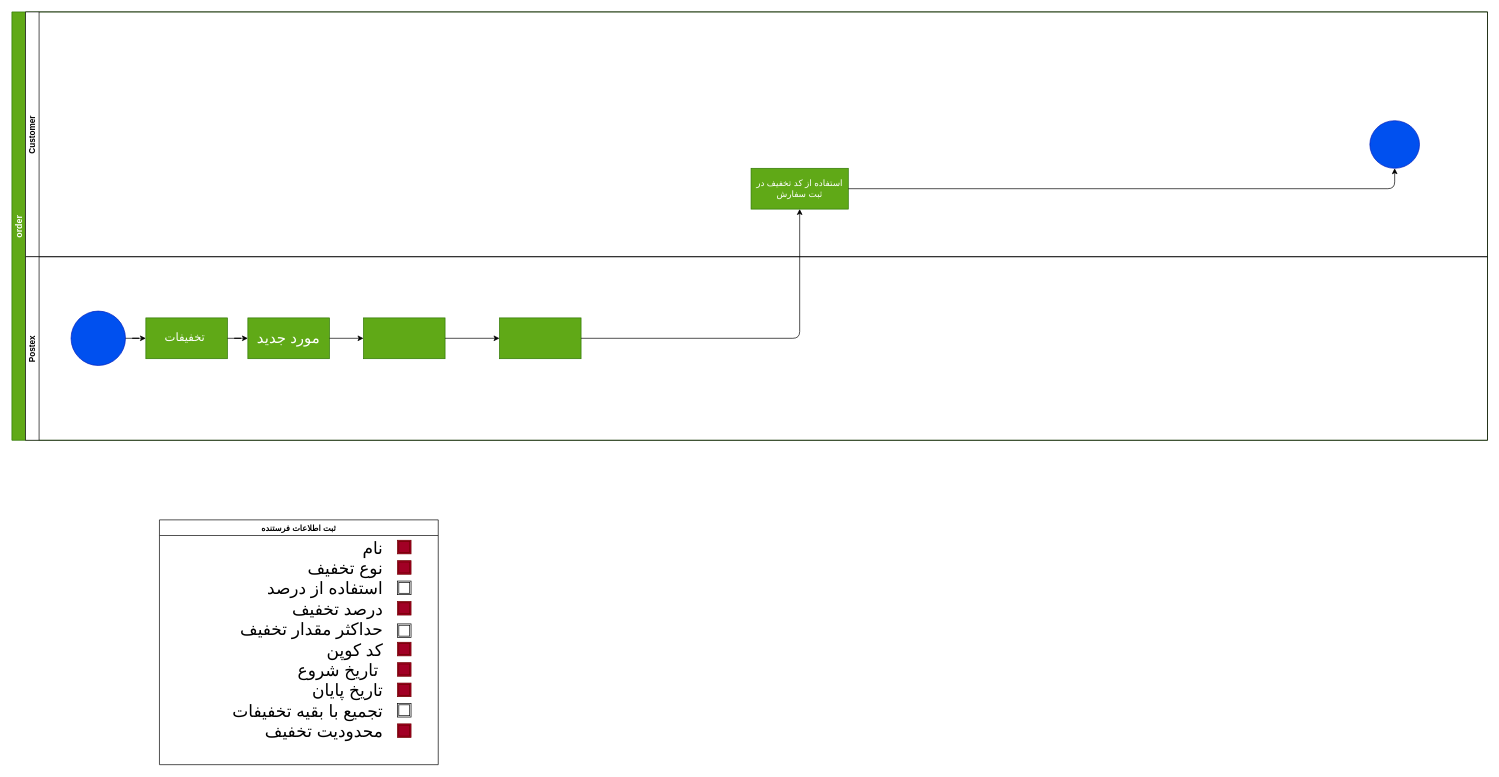
Image size: 1499x777. Some labels were removed from this diagram. Each missing label, with the centre of its shape:
ارسال تیکت جدید: (404,338)
ساخت کد تخفیف: (540,338)
شروع: (97,338)
پایان: (1394,144)
